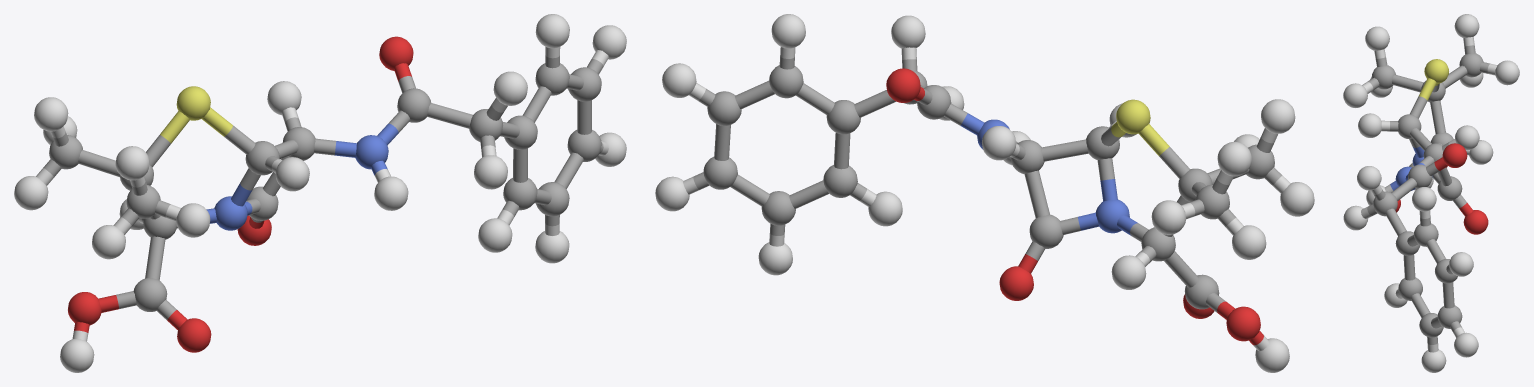
File: penicillin-bas.glb
3 views of the same model, side by side, from view 1: azimuth 30°, elevation 25°; view 2: azimuth 150°, elevation 25°; view 3: azimuth 270°, elevation 25° (orthographic). The views are drawn at different scales.
Parts seen in each view (by area): view 1: penicillin-bas; view 2: penicillin-bas; view 3: penicillin-bas.
Boxes of the visible parts, bbox=[...] form: penicillin-bas: bbox=[14, 14, 626, 372]; penicillin-bas: bbox=[655, 14, 1314, 372]; penicillin-bas: bbox=[1343, 14, 1519, 372].
Bounding box in the file's own units: 14.16 × 5.88 × 4.98.
